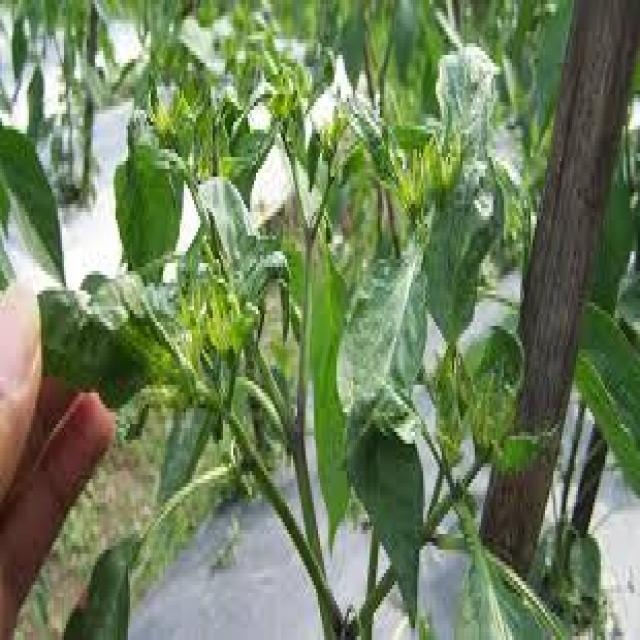sehat: (327, 236, 429, 428), (350, 400, 425, 633)
